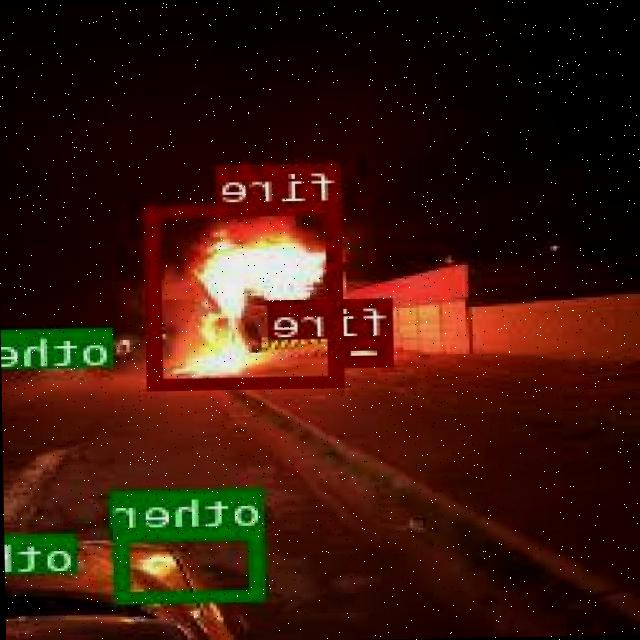fire: (148, 202, 344, 386), (340, 335, 395, 364)
